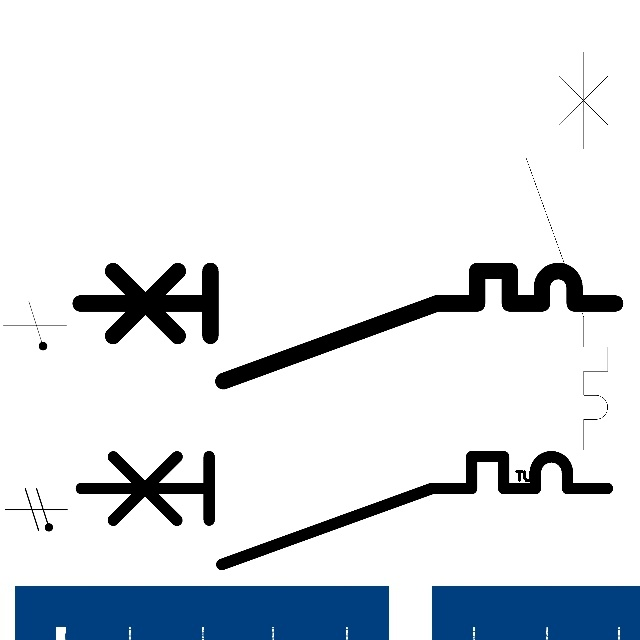interruptor_termomagnetico: (66, 257, 629, 394), (67, 443, 620, 578), (516, 42, 618, 460)
